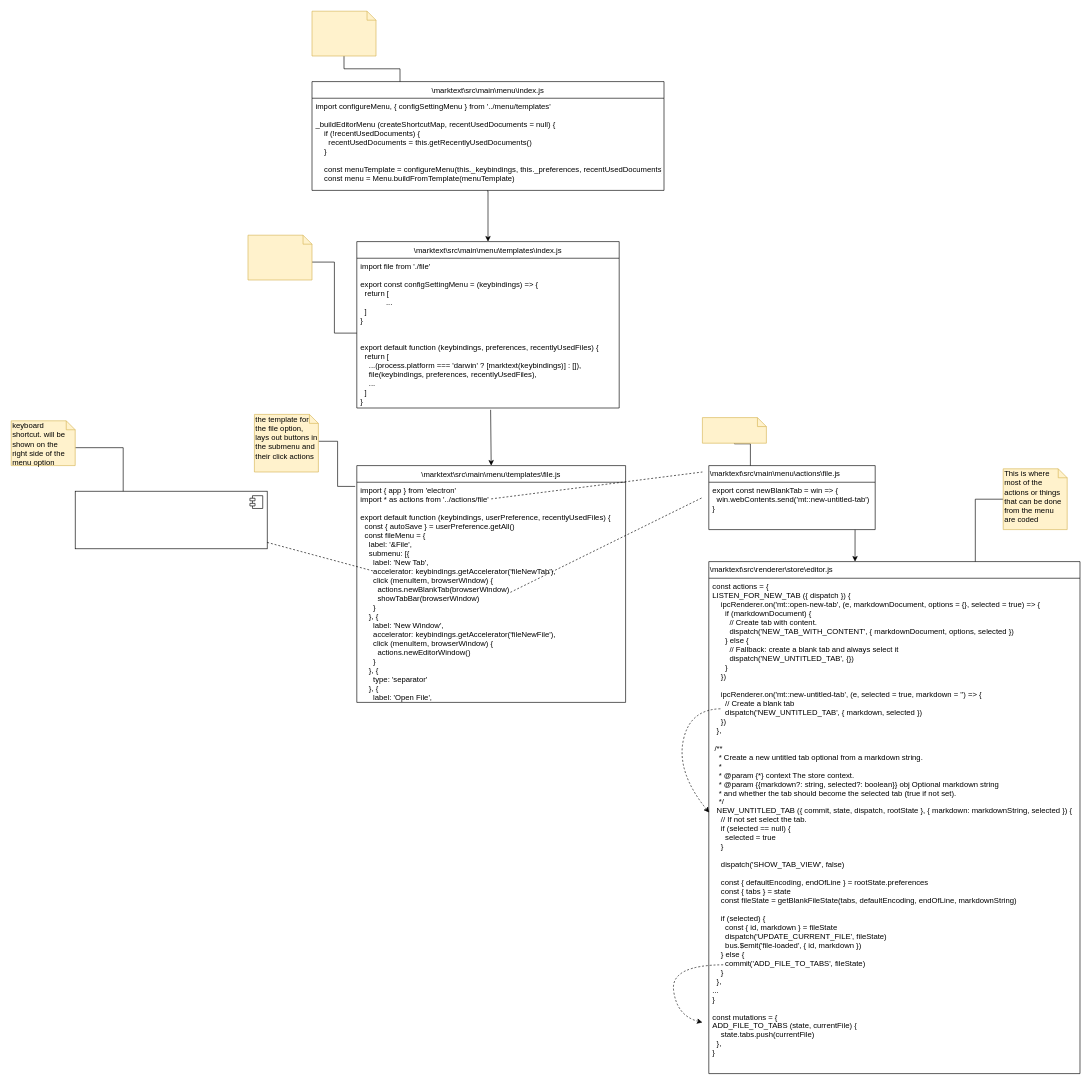
Some shapes in this 1091 by 1087 pixel diagram are drawn without their labels. Here are the shapes that lost their labels. From the top down, the centre of each, then its label:
point (343, 33): Where the menu gets imported to be rendered later on
point (279, 257): Adds 'file' as an option into the list on the popup menu
point (734, 430): Click action fires an event
point (171, 520): «\marktext\src\main\keyboard\shortcutHandler.js» ['fileNewTab', 'CmdOrCtrl+T'],
